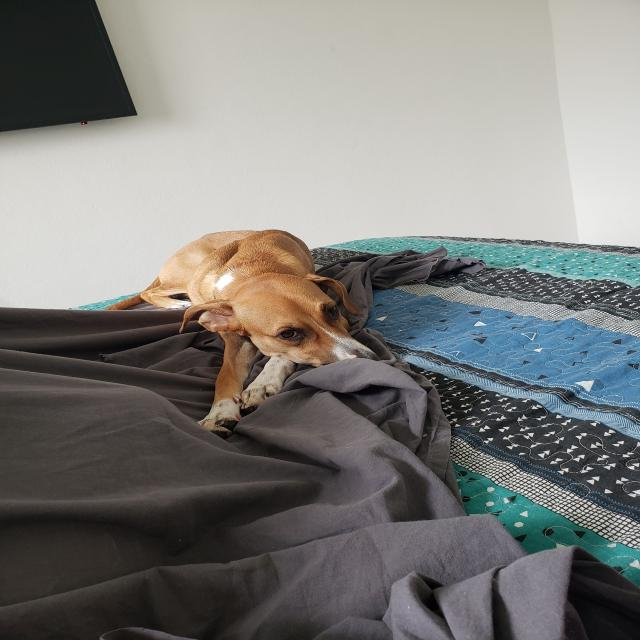laying down: (138, 224, 388, 439)
